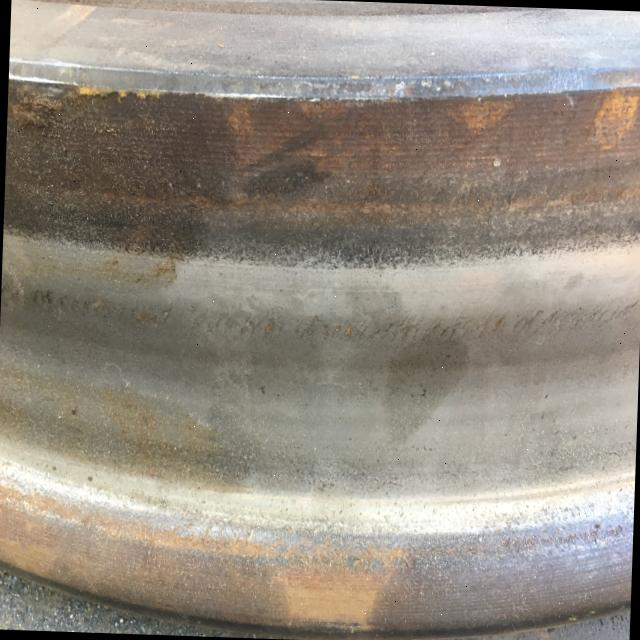Contact_Fatigue_Cracks: (5, 280, 98, 324), (303, 316, 418, 349), (198, 312, 284, 342), (500, 314, 571, 340), (432, 315, 491, 344), (120, 304, 171, 332), (580, 308, 629, 333)
